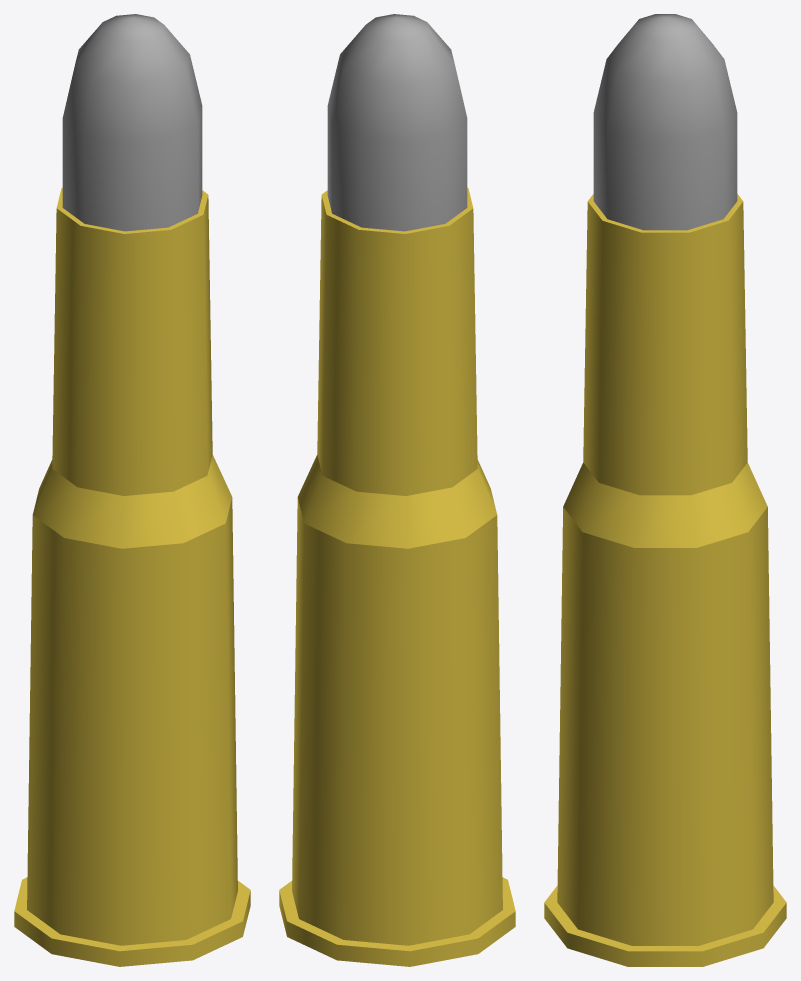
The model's file is 577-450_Bullet.fbx.
The picture shows the model from 3 angles, left to right: view 1: azimuth 30°, elevation 25°; view 2: azimuth 150°, elevation 25°; view 3: azimuth 270°, elevation 25°; orthographic projection.
Visible parts, largest first — view 1: Bullet:pCylinder1; view 2: Bullet:pCylinder1; view 3: Bullet:pCylinder1.
Boxes of the visible parts, x1,y1,x2,y2 form: Bullet:pCylinder1: (14,14,250,966); Bullet:pCylinder1: (279,14,515,966); Bullet:pCylinder1: (544,14,786,966).
Bounding box in the file's own units: 0.3359 × 1.45 × 0.3532.
